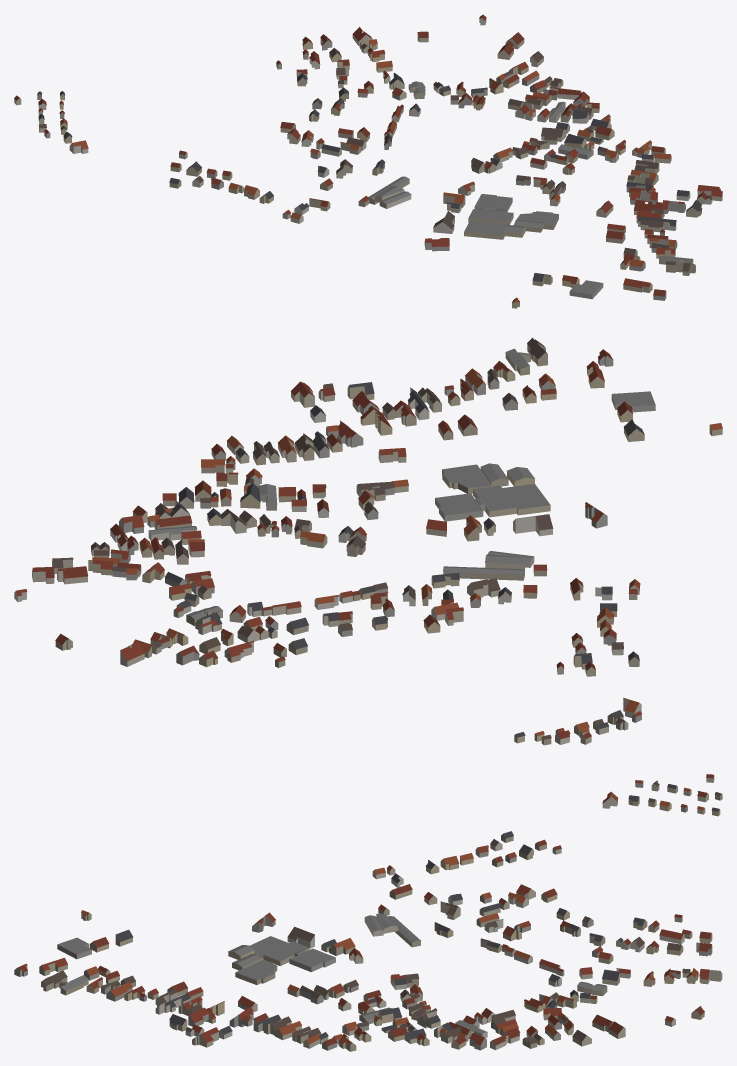
3 renders of one model, top to bottom at view 1: azimuth 30°, elevation 25°; view 2: azimuth 150°, elevation 25°; view 3: azimuth 270°, elevation 25°, orthographic. The views are drawn at different scales.
Visible parts, largest first — view 1: buildings; view 2: buildings; view 3: buildings.
Part boxes in pixels (x1=…): buildings: x1=14, y1=14, x2=722, y2=308; buildings: x1=14, y1=337, x2=722, y2=745; buildings: x1=14, y1=774, x2=722, y2=1051.
Bounding box in the file's own units: 648 × 60.79 × 804.
